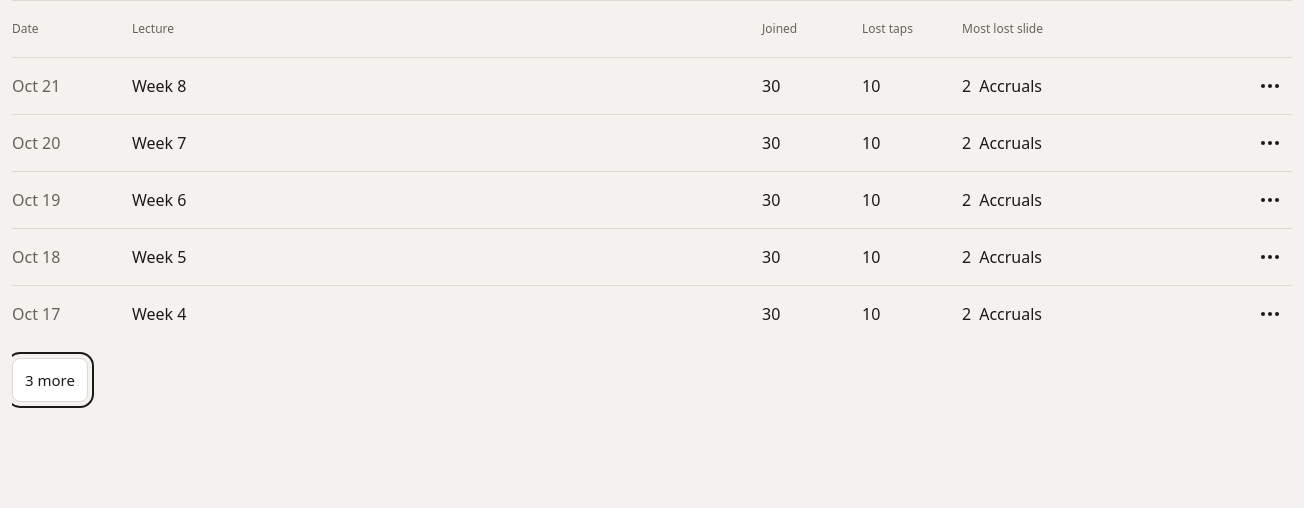
it: PastLectures › shows five, and N more brings in the rest with the keyboard on the first new one
Expected: the number of links is 5, [12,75,1240,108]; [12,132,1240,166]; [12,189,1240,222]; [12,246,1240,280]; [12,303,1240,336]
Click the button "3 more": (50,380) [12,358,88,402]
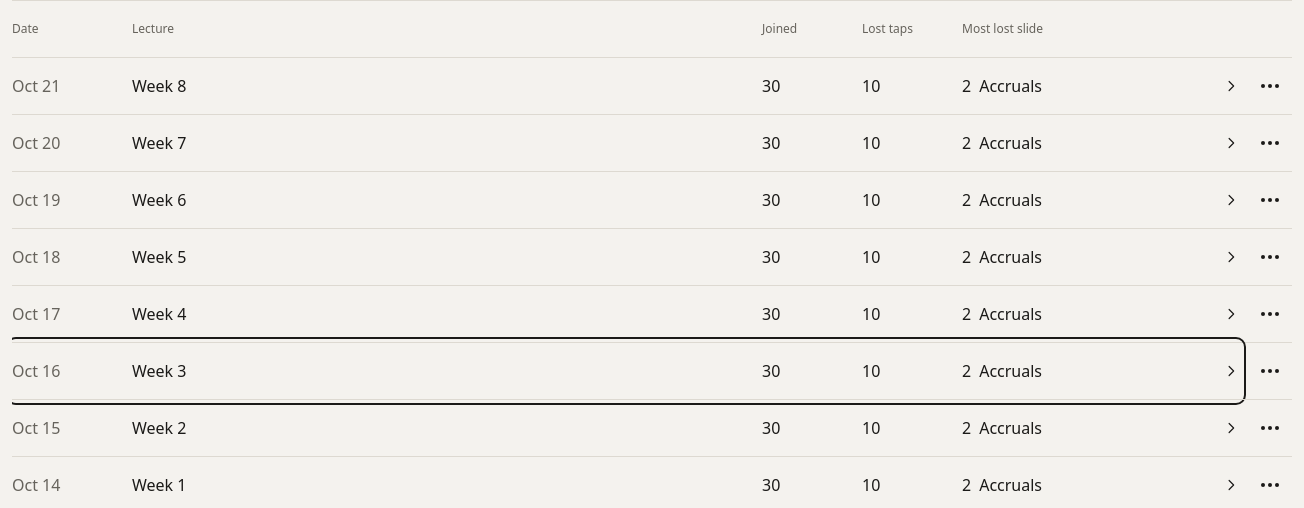
Expected: the number of links is 8
Expected: the button "more" is gone
